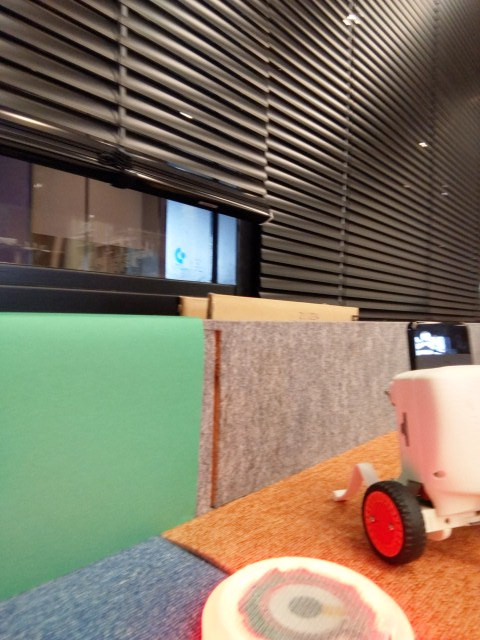bl: (325, 316, 480, 566)
r: (195, 551, 427, 640)
